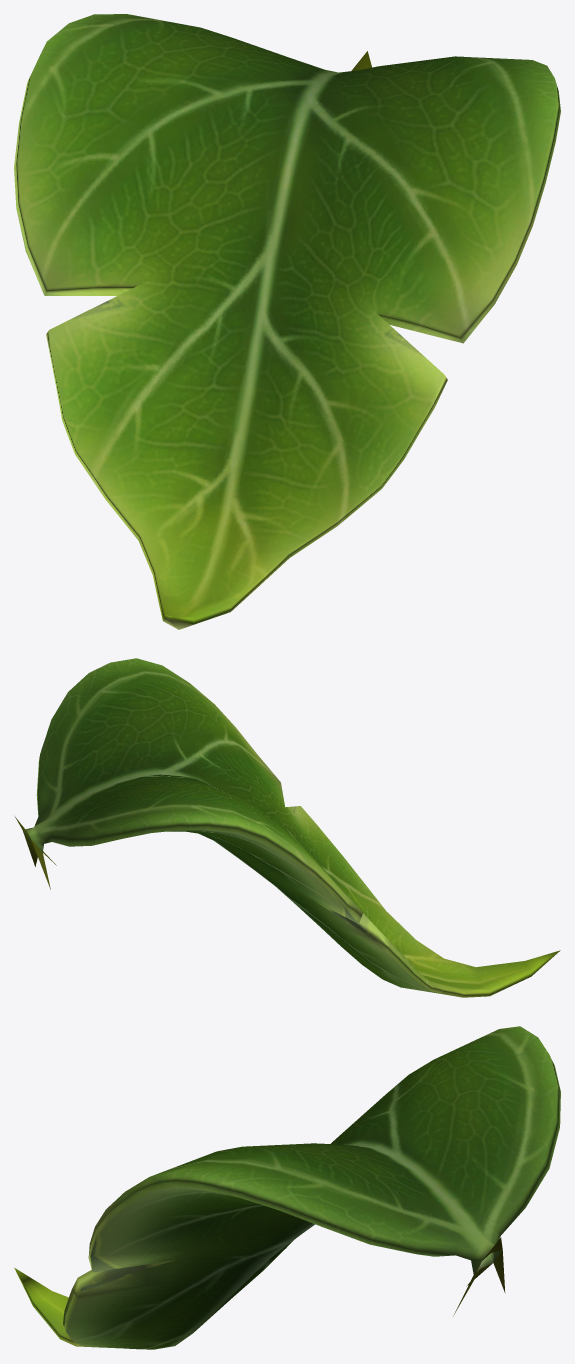
File: peashooter_hoja_del_der.obj
3 renders of one model, top to bottom at view 1: azimuth 30°, elevation 25°; view 2: azimuth 150°, elevation 25°; view 3: azimuth 270°, elevation 25°, orthographic. The views are drawn at different scales.
Parts seen in each view (by area): view 1: peashooter_hoja_del_der; view 2: peashooter_hoja_del_der; view 3: peashooter_hoja_del_der.
Part boxes in pixels (left/top/right/bottom): peashooter_hoja_del_der: left=14, top=14, right=560, bottom=629; peashooter_hoja_del_der: left=15, top=658, right=560, bottom=997; peashooter_hoja_del_der: left=14, top=1026, right=560, bottom=1349.
Bounding box in the file's own units: 0.3794 × 0.2728 × 0.3792.
